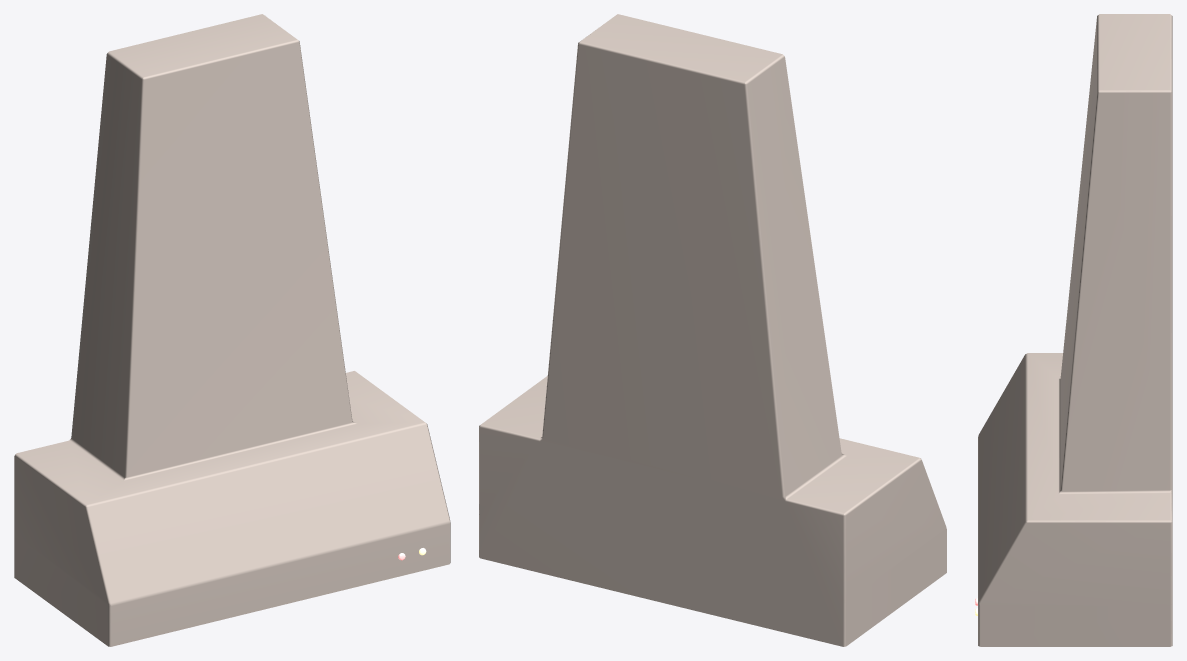
Rendered from Kitchen_Hood_1.glb.
The picture shows the model from 3 angles, left to right: view 1: azimuth 30°, elevation 25°; view 2: azimuth 150°, elevation 25°; view 3: azimuth 270°, elevation 25°; orthographic projection. The views are drawn at different scales.
Visible parts, largest first — view 1: Kitchen_Hood_1; view 2: Kitchen_Hood_1; view 3: Kitchen_Hood_1.
Part boxes in pixels (<box>): Kitchen_Hood_1: <box>14,14,450,646</box>; Kitchen_Hood_1: <box>479,14,946,646</box>; Kitchen_Hood_1: <box>975,14,1172,646</box>.
Bounding box in the file's own units: 1.25 × 1.76 × 0.6158.
Materials: 2 (1 with a texture image).
